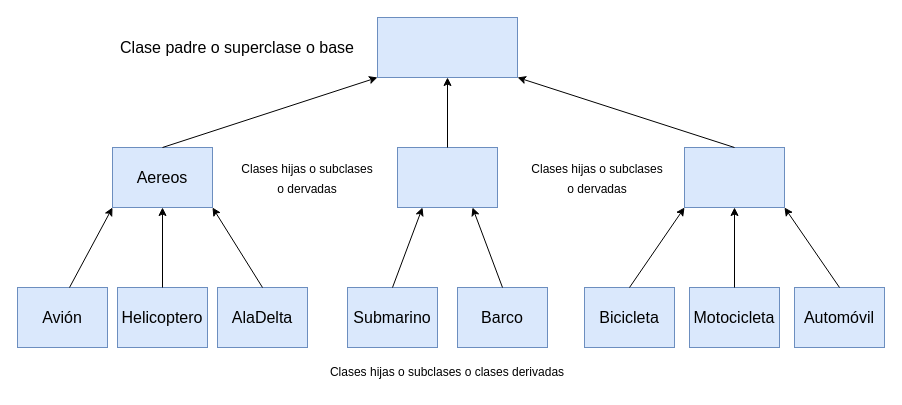
Some shapes in this 902 by 405 pixel diagram are drawn without their labels. Each missing label, with the centre of its shape:
"Acuáticos" belongs at (x=447, y=177).
"MediosTransporte" belongs at (x=447, y=47).
"Terrestres" belongs at (x=734, y=177).
